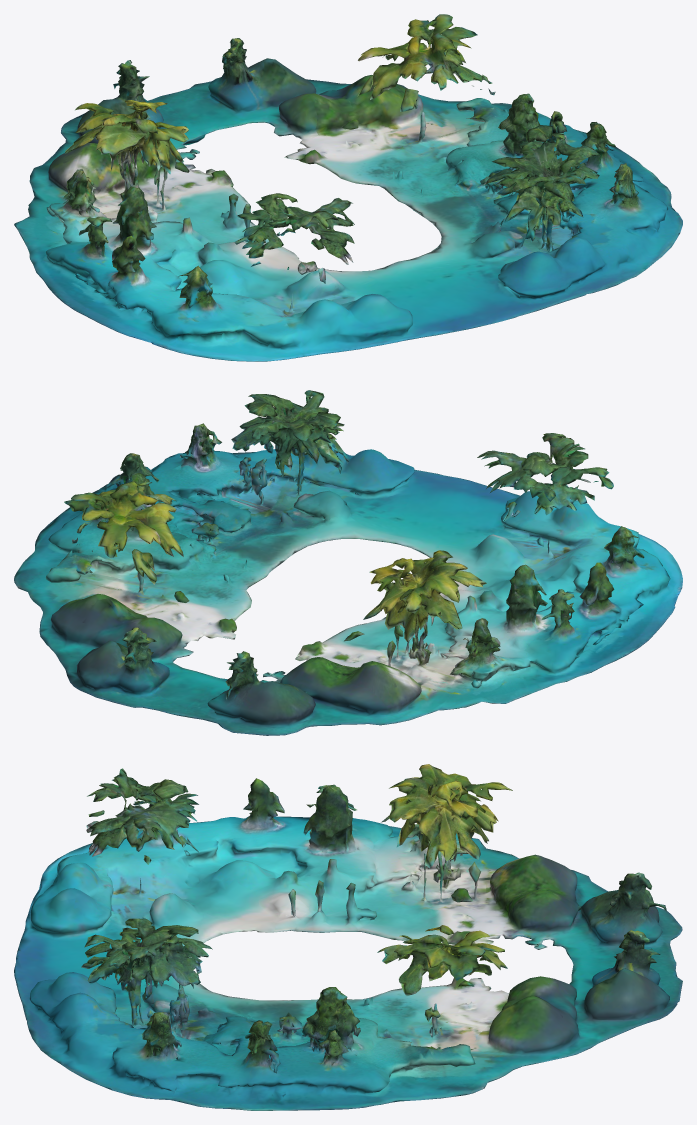
File: island_4.glb
3 renders of one model, top to bottom at view 1: azimuth 30°, elevation 25°; view 2: azimuth 150°, elevation 25°; view 3: azimuth 270°, elevation 25°, orthographic. The views are drawn at different scales.
Size of the model in its own units: 1.9 by 0.4355 by 1.83.
Materials: 1 (1 with a texture image).
